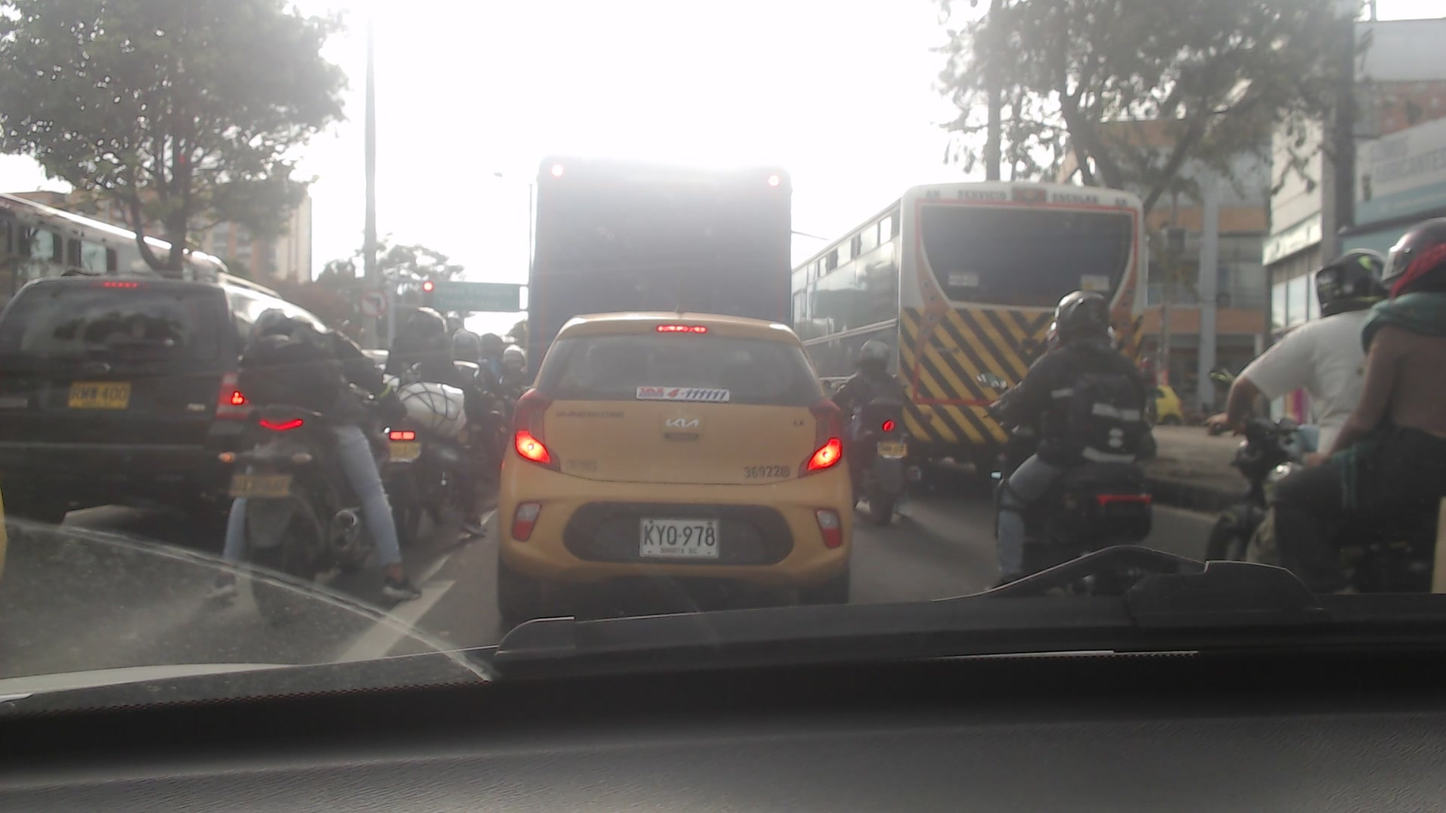bus: (792, 178, 1158, 469)
car: (496, 315, 859, 615), (5, 277, 310, 548)
motorcycle: (212, 409, 422, 626), (984, 458, 1160, 615), (360, 415, 490, 533), (825, 399, 923, 532)
person: (202, 304, 417, 607), (1217, 246, 1383, 477), (991, 280, 1159, 477), (1350, 222, 1446, 543), (381, 294, 483, 449), (836, 333, 921, 460)
truck: (515, 142, 812, 330)
